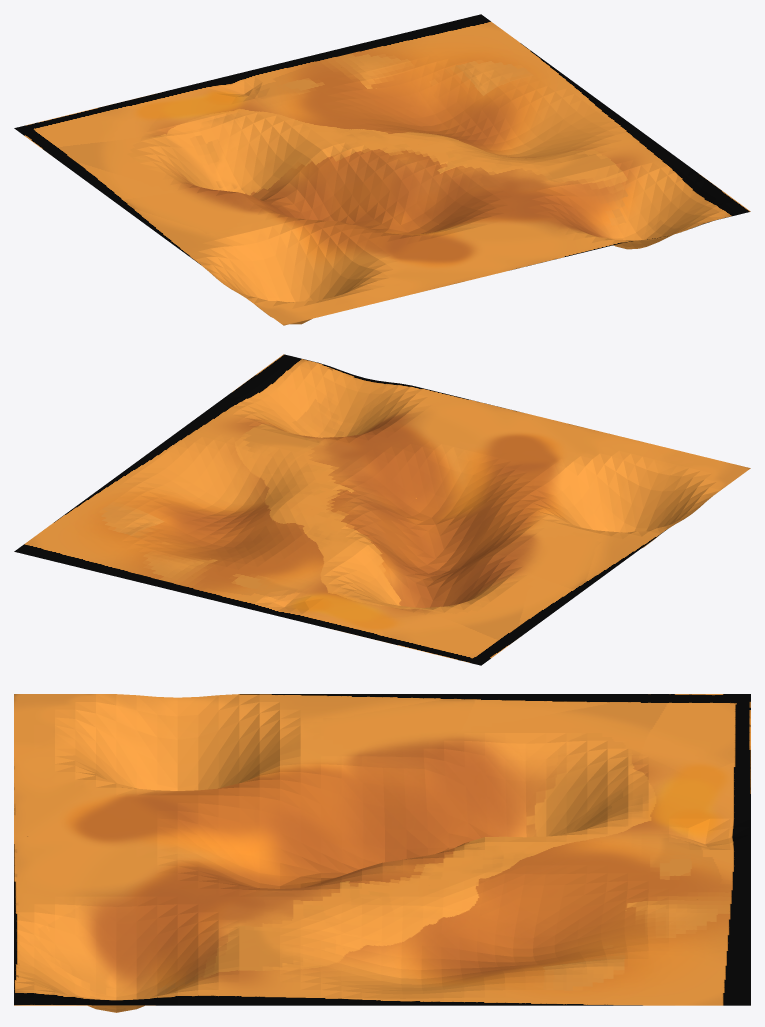
The model's file is Desert.obj.
3 views of the same model, one above another, from view 1: azimuth 30°, elevation 25°; view 2: azimuth 150°, elevation 25°; view 3: azimuth 270°, elevation 25° (orthographic). The views are drawn at different scales.
Bounding box in the file's own units: 123 × 14.64 × 123.
1 material, 1 textured.
